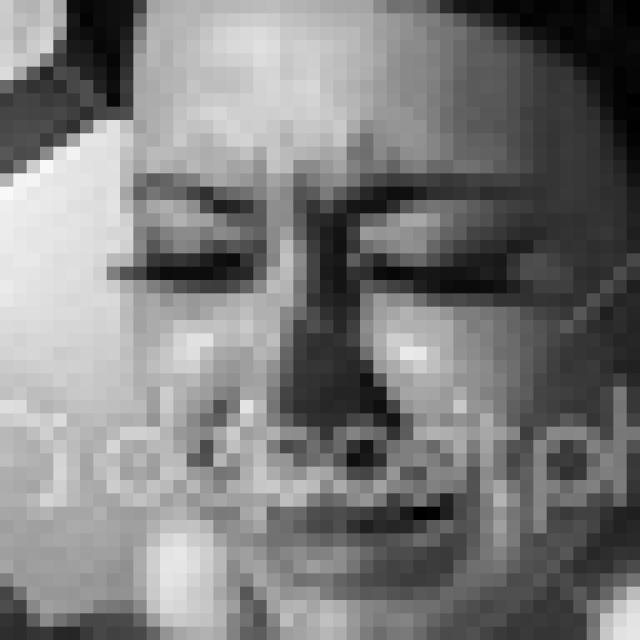sad: (143, 123, 578, 600)
